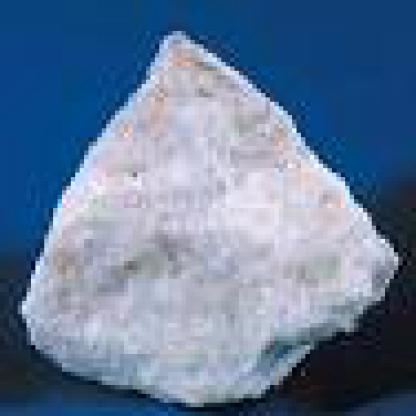Sedimentary_Chalk: (9, 13, 398, 412)
